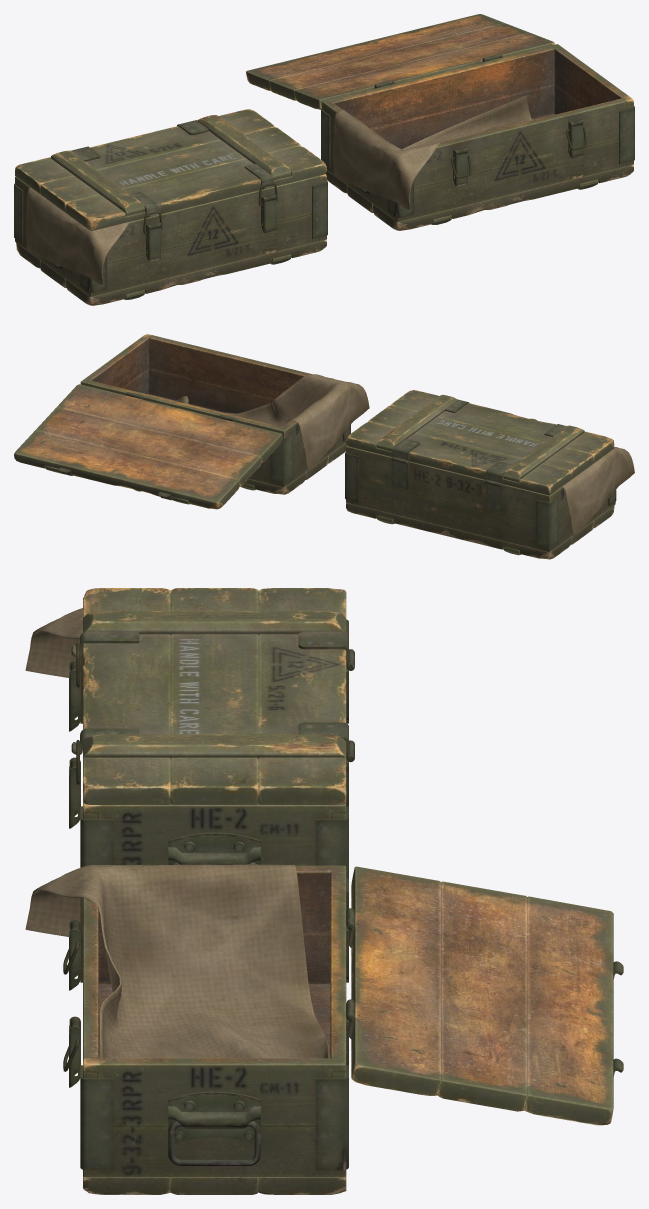
File: old_military_crate_1k.glb
The picture shows the model from 3 angles, top to bottom: view 1: azimuth 30°, elevation 25°; view 2: azimuth 150°, elevation 25°; view 3: azimuth 270°, elevation 25°; orthographic projection. The views are drawn at different scales.
Visible parts, largest first — view 1: old_military_crate_b, old_military_crate_lid_a, old_military_crate_a, old_military_crate_lid_b, old_military_crate_cloth_b, old_military_crate_cloth_a, old_military_crate_latch_a, old_military_crate_latch_b; view 2: old_military_crate_lid_b, old_military_crate_lid_a, old_military_crate_a, old_military_crate_b, old_military_crate_cloth_b, old_military_crate_cloth_a; view 3: old_military_crate_lid_a, old_military_crate_lid_b, old_military_crate_b, old_military_crate_cloth_b, old_military_crate_a, old_military_crate_cloth_a, old_military_crate_latch_b, old_military_crate_latch_a.
Part boxes in pixels (x1=…): old_military_crate_b: x1=321, y1=44, x2=634, y2=230; old_military_crate_lid_a: x1=15, y1=109, x2=326, y2=230; old_military_crate_a: x1=14, y1=174, x2=327, y2=305; old_military_crate_lid_b: x1=246, y1=14, x2=555, y2=109; old_military_crate_cloth_b: x1=333, y1=95, x2=532, y2=209; old_military_crate_cloth_a: x1=26, y1=187, x2=129, y2=284; old_military_crate_latch_a: x1=146, y1=194, x2=276, y2=261; old_military_crate_latch_b: x1=453, y1=119, x2=583, y2=186; old_military_crate_lid_b: x1=14, y1=384, x2=282, y2=509; old_military_crate_lid_a: x1=346, y1=390, x2=614, y2=495; old_military_crate_a: x1=345, y1=446, x2=616, y2=559; old_military_crate_b: x1=80, y1=334, x2=350, y2=494; old_military_crate_cloth_b: x1=174, y1=374, x2=369, y2=470; old_military_crate_cloth_a: x1=562, y1=447, x2=634, y2=535; old_military_crate_lid_a: x1=71, y1=588, x2=354, y2=804; old_military_crate_lid_b: x1=346, y1=866, x2=623, y2=1125; old_military_crate_b: x1=80, y1=865, x2=354, y2=1194; old_military_crate_cloth_b: x1=25, y1=864, x2=329, y2=1058; old_military_crate_a: x1=80, y1=619, x2=354, y2=879; old_military_crate_cloth_a: x1=25, y1=608, x2=82, y2=677; old_military_crate_latch_b: x1=69, y1=919, x2=80, y2=1087; old_military_crate_latch_a: x1=69, y1=660, x2=80, y2=828.
Size of the model in its own units: 1.82 by 0.301 by 0.9757.
1 material, 1 textured.
